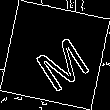M_NW: (22, 21, 88, 89)
